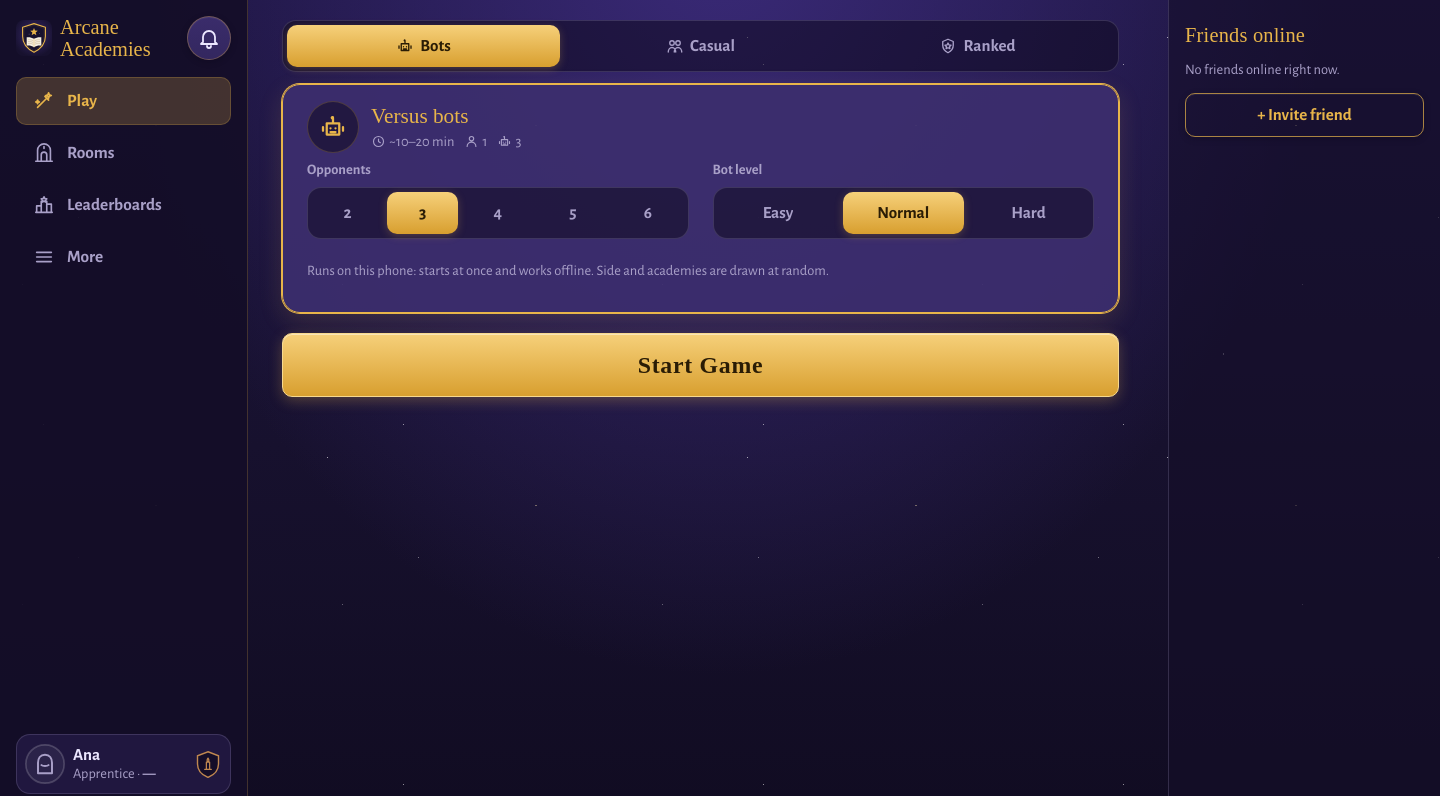
Test: managing the account › account settings hold the country picker
Click the button "More" at (124, 257), box [16,233,231,281]
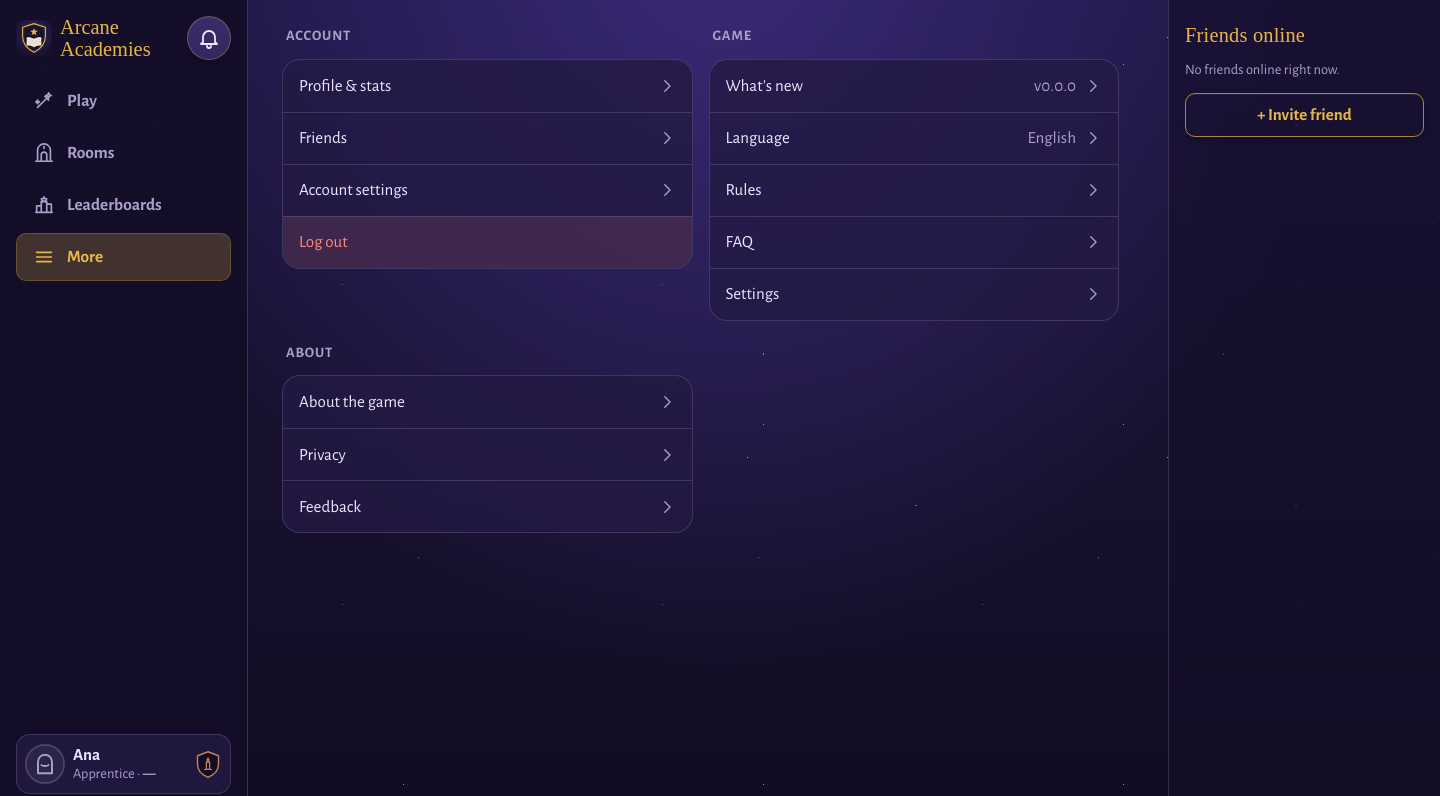
Click the button "Account settings" at (353, 190), box [283,164,692,216]
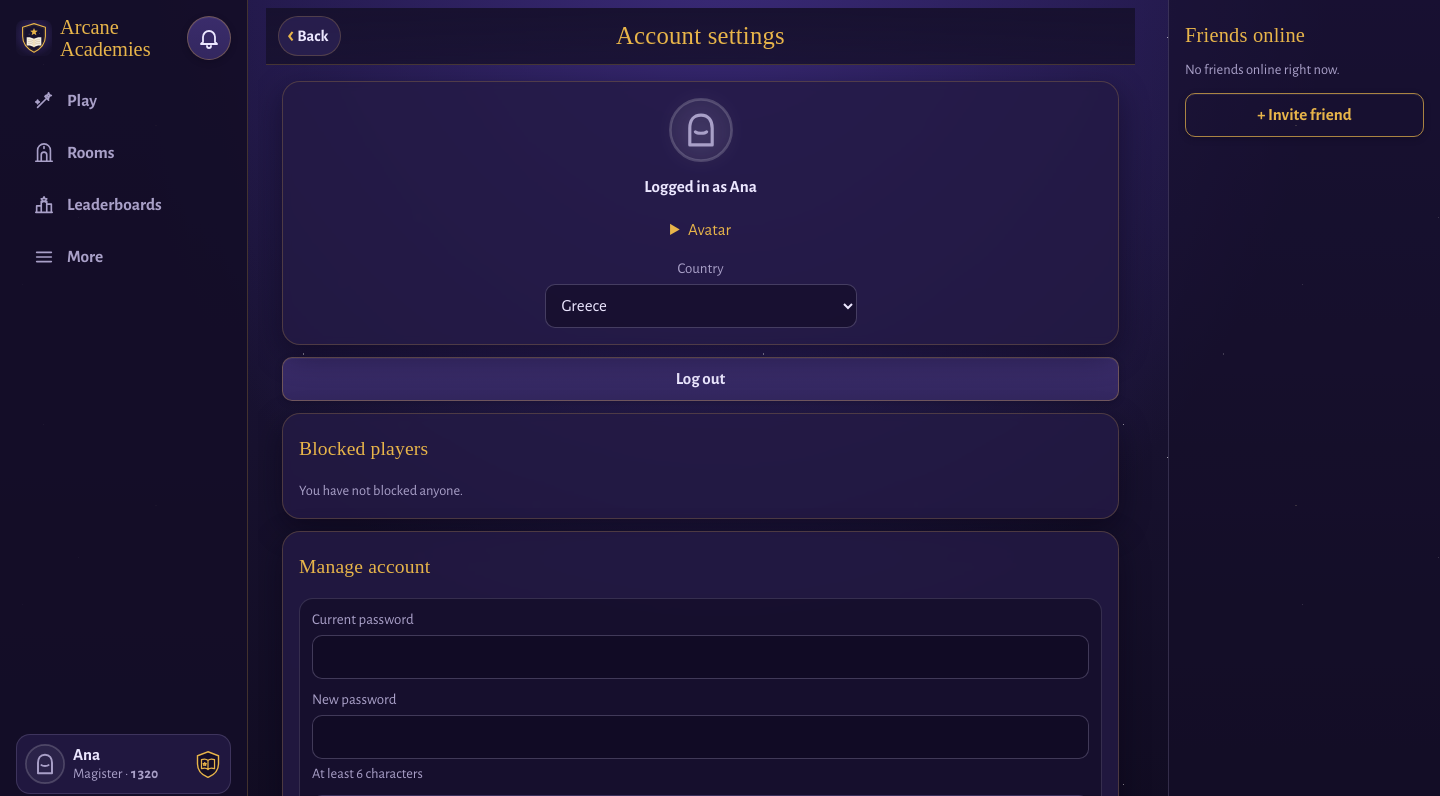
Check: the dropdown labelled "Country" shows "Greece", box [544,284,856,328]
